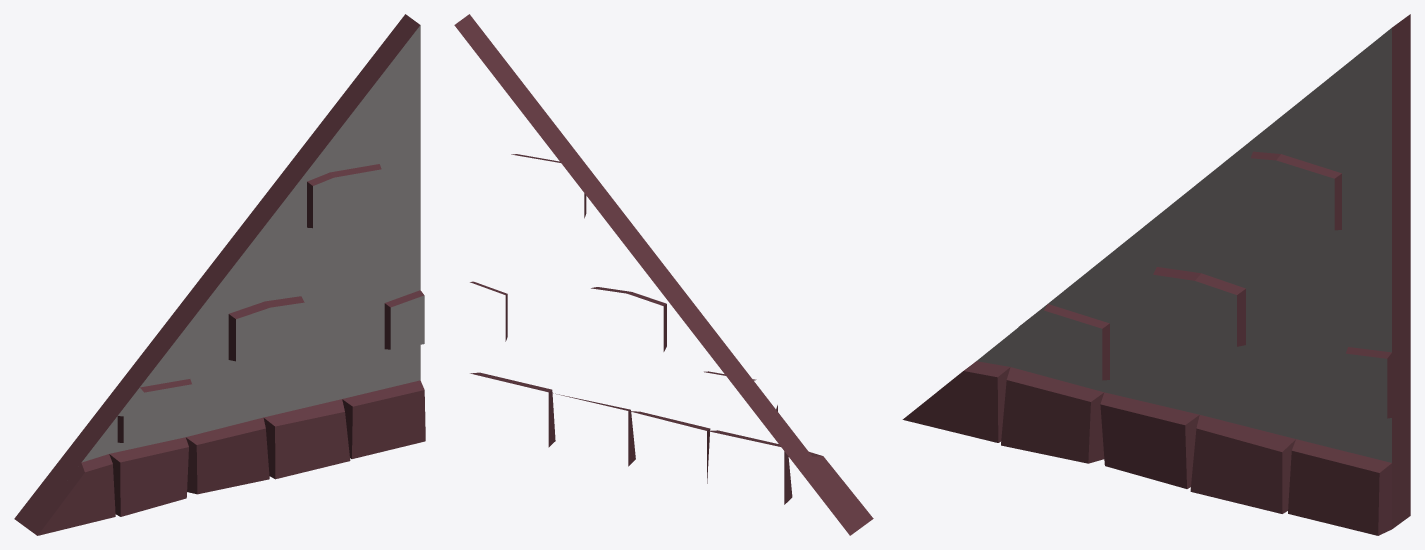
The model's file is buildings-wall-stone-end-l-3x3m-b.glb.
3 views of the same model, side by side, from view 1: azimuth 30°, elevation 25°; view 2: azimuth 150°, elevation 25°; view 3: azimuth 330°, elevation 25° (orthographic). The views are drawn at different scales.
Visible parts, largest first — view 1: wall-stone-end-l-3x3m-b; view 2: wall-stone-end-l-3x3m-b; view 3: wall-stone-end-l-3x3m-b.
Part boxes in pixels (x1,y1,x2,y2): wall-stone-end-l-3x3m-b: (14, 14, 425, 535); wall-stone-end-l-3x3m-b: (454, 14, 873, 535); wall-stone-end-l-3x3m-b: (902, 14, 1410, 535).
Size of the model in its own units: 3 by 3 by 0.3284.
